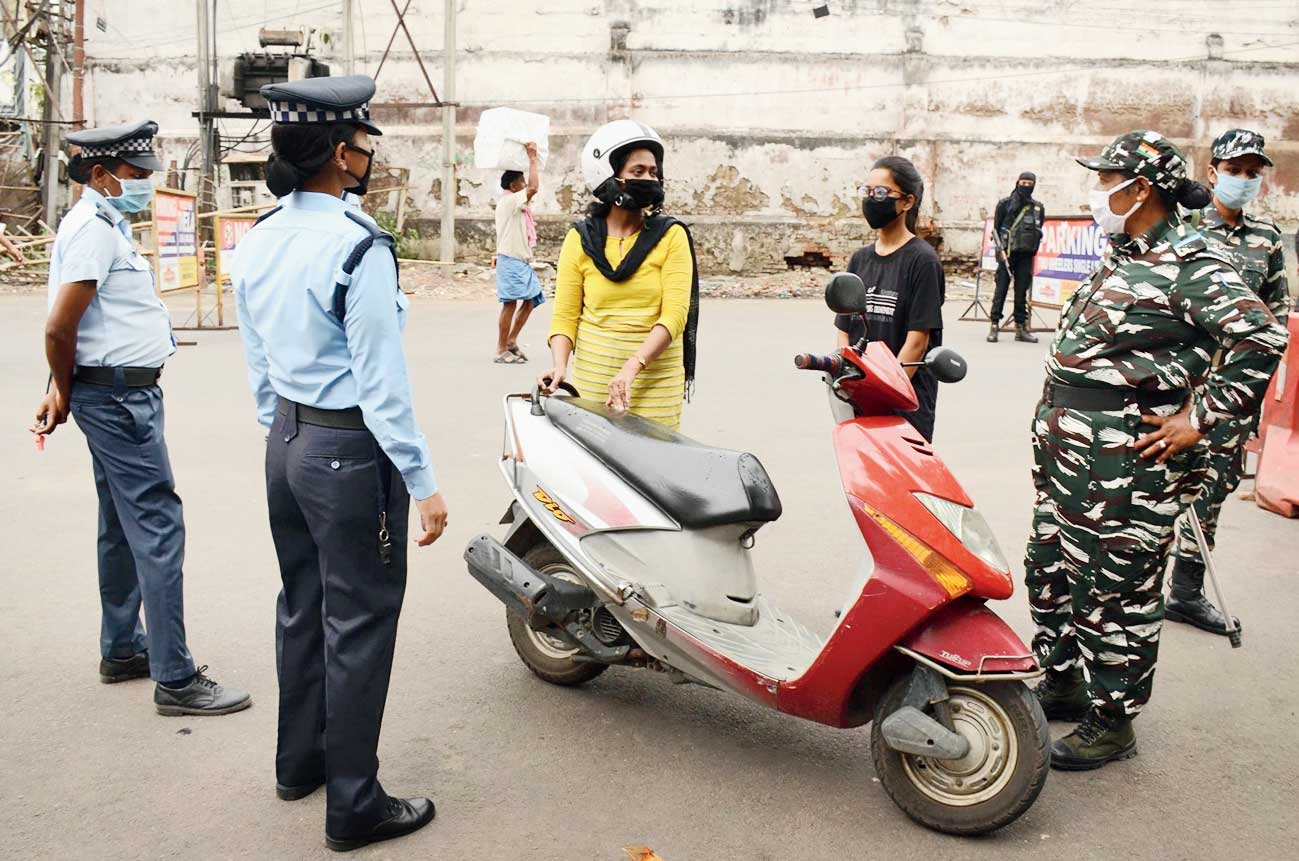bike: (475, 328, 1052, 832)
